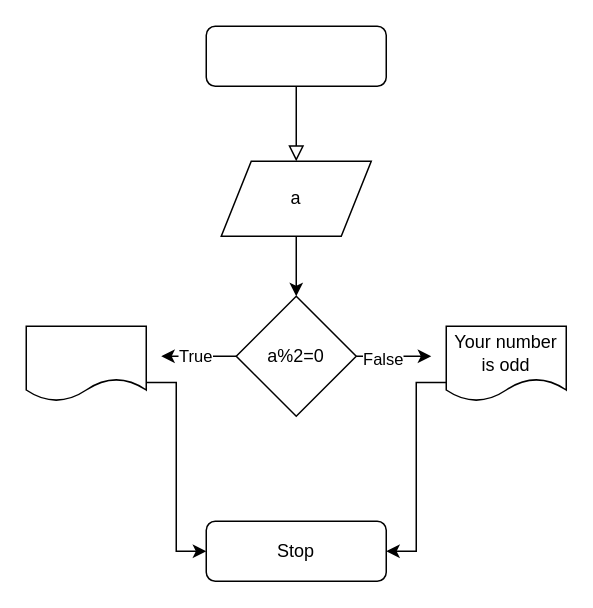
The diagram is 593 pixels wide and 608 high, and some of its shapes have lost their labels. Here are the shapes that lost their labels. From the top down, the centre of each, then its label:
At pixel 295 55: "Start".
At pixel 85 363: "Your number is even".
